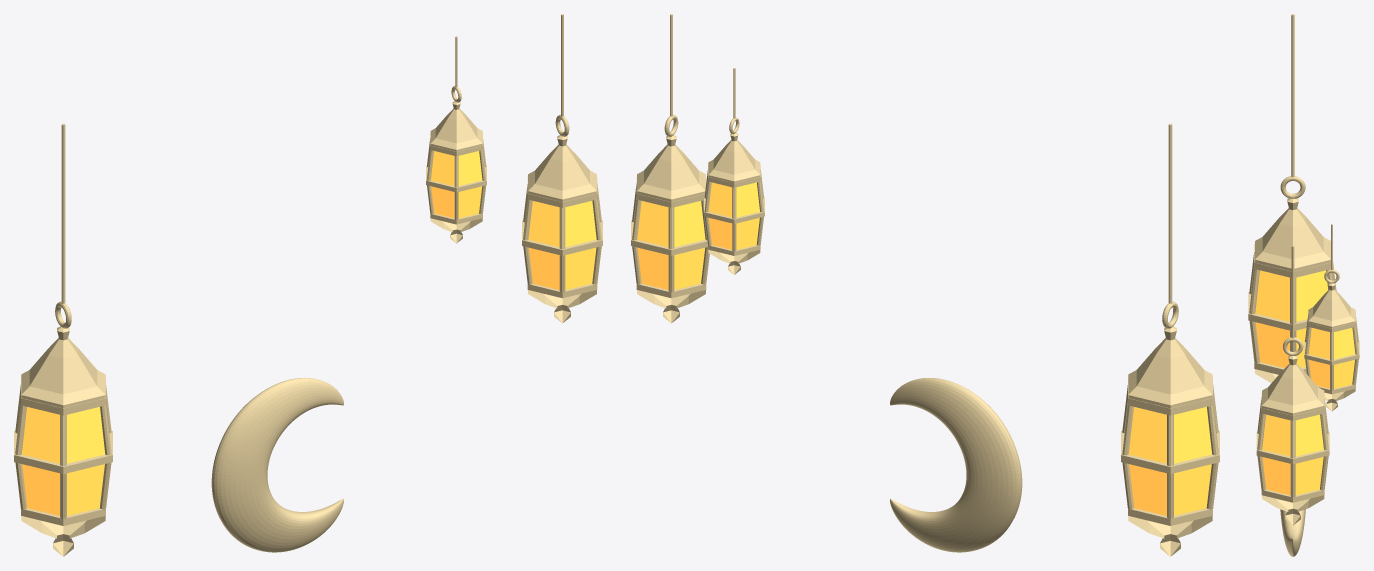
File: eid_fitr.glb
3 renders of one model, left to right at view 1: azimuth 30°, elevation 25°; view 2: azimuth 150°, elevation 25°; view 3: azimuth 270°, elevation 25°, orthographic. The views are drawn at different scales.
Parts seen in each view (by area): view 1: lantern_l, crescent, lantern_r, lantern_m; view 2: lantern_l, crescent, lantern_r, lantern_m; view 3: lantern_l, lantern_r, lantern_m, crescent.
Boxes of the visible parts, x1=… form: lantern_l: x1=14, y1=123, x2=112, y2=556; crescent: x1=211, y1=378, x2=343, y2=552; lantern_r: x1=522, y1=14, x2=602, y2=323; lantern_m: x1=426, y1=36, x2=486, y2=243; lantern_l: x1=1121, y1=123, x2=1219, y2=556; crescent: x1=890, y1=378, x2=1022, y2=552; lantern_r: x1=631, y1=14, x2=709, y2=323; lantern_m: x1=704, y1=68, x2=764, y2=274; lantern_l: x1=1248, y1=14, x2=1336, y2=383; lantern_r: x1=1256, y1=245, x2=1329, y2=525; lantern_m: x1=1304, y1=224, x2=1359, y2=411; crescent: x1=1280, y1=509, x2=1305, y2=556.
Bounding box in the file's own units: 4.74 × 3.7 × 0.8573.
